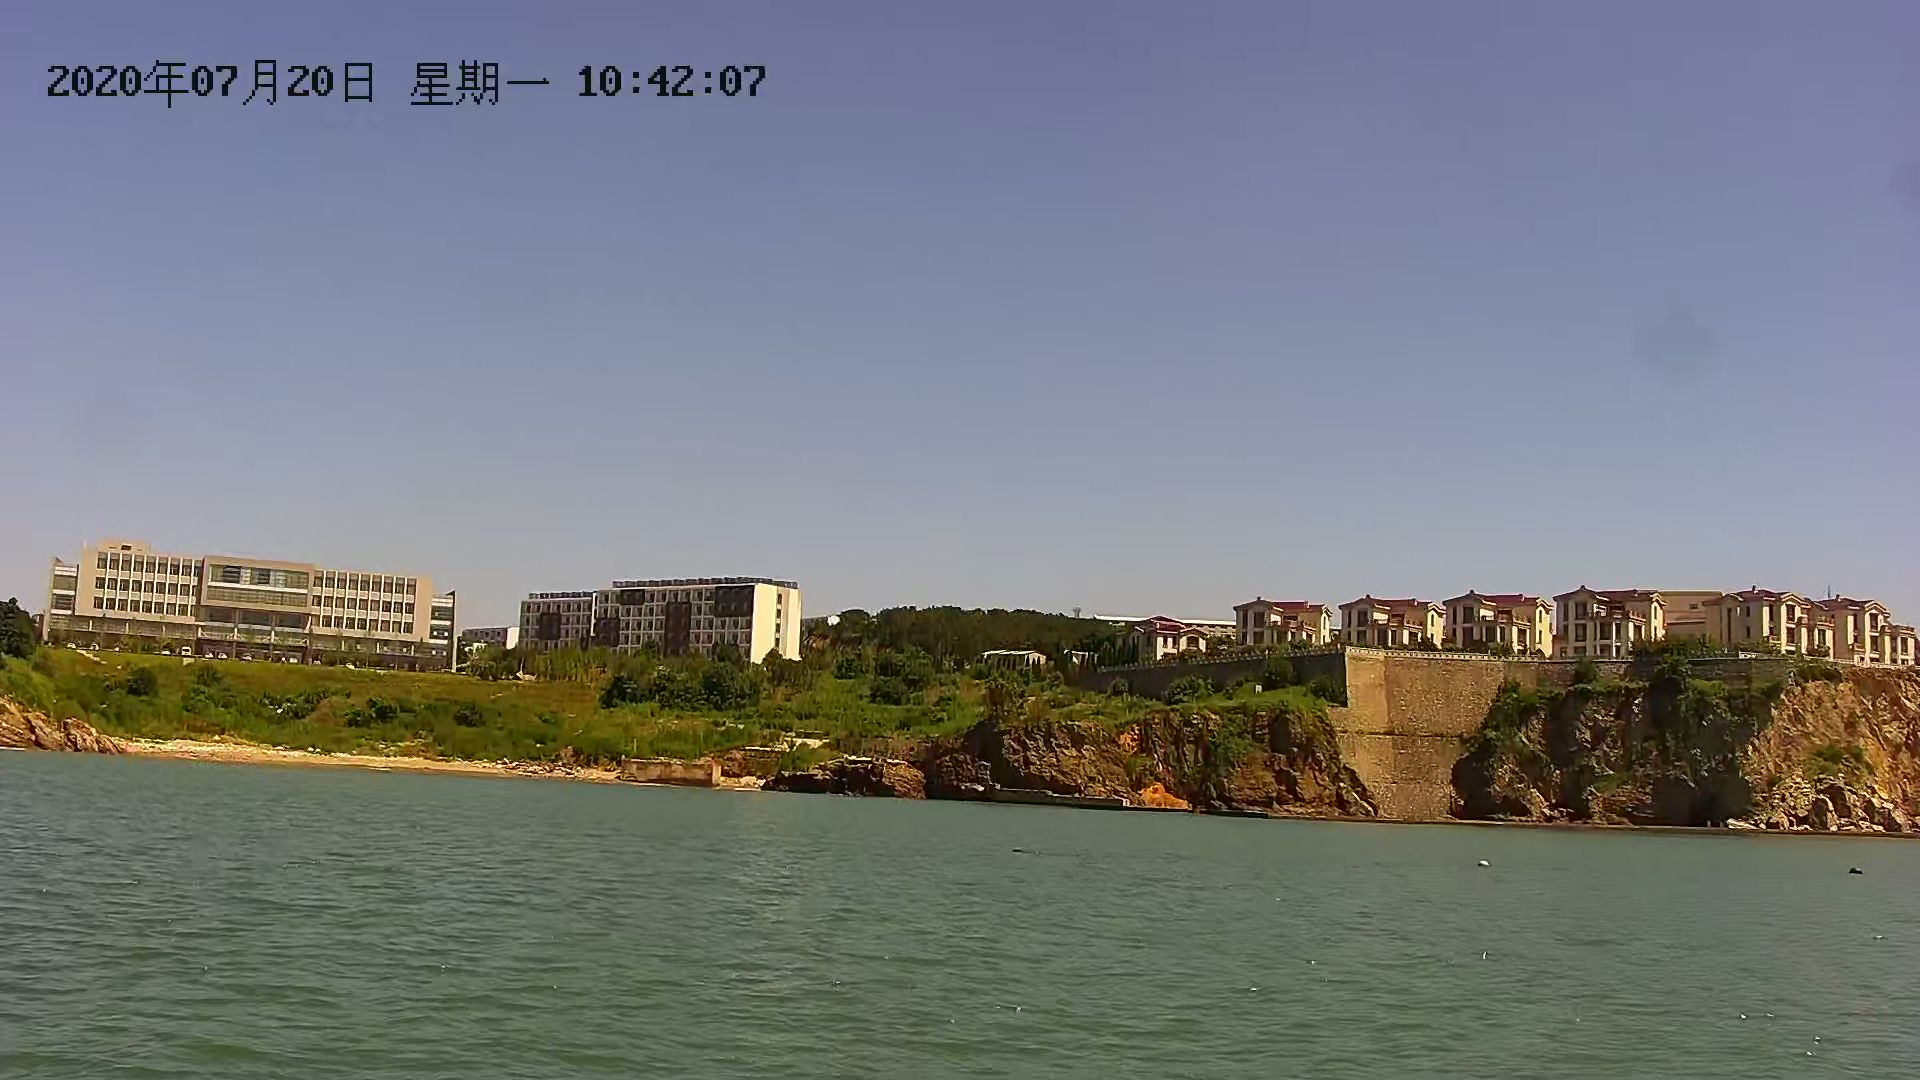ball: (1845, 861, 1862, 877), (1478, 856, 1495, 870)
